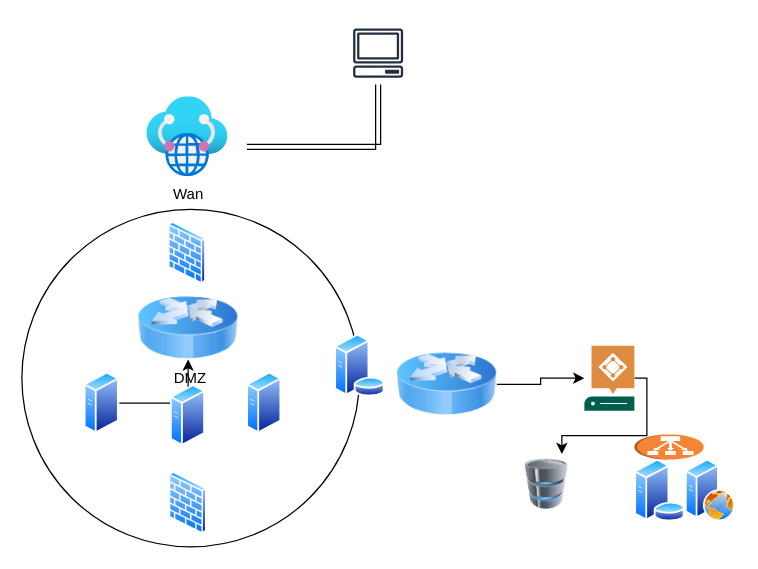
This 758x569 diagram has some shape labels left out. The shapes that lost their labels are listed below. From the top down, each one's centre as x and y in pixels, then its label:
At (377,52): "Client".
At (446,384): "ACL".
